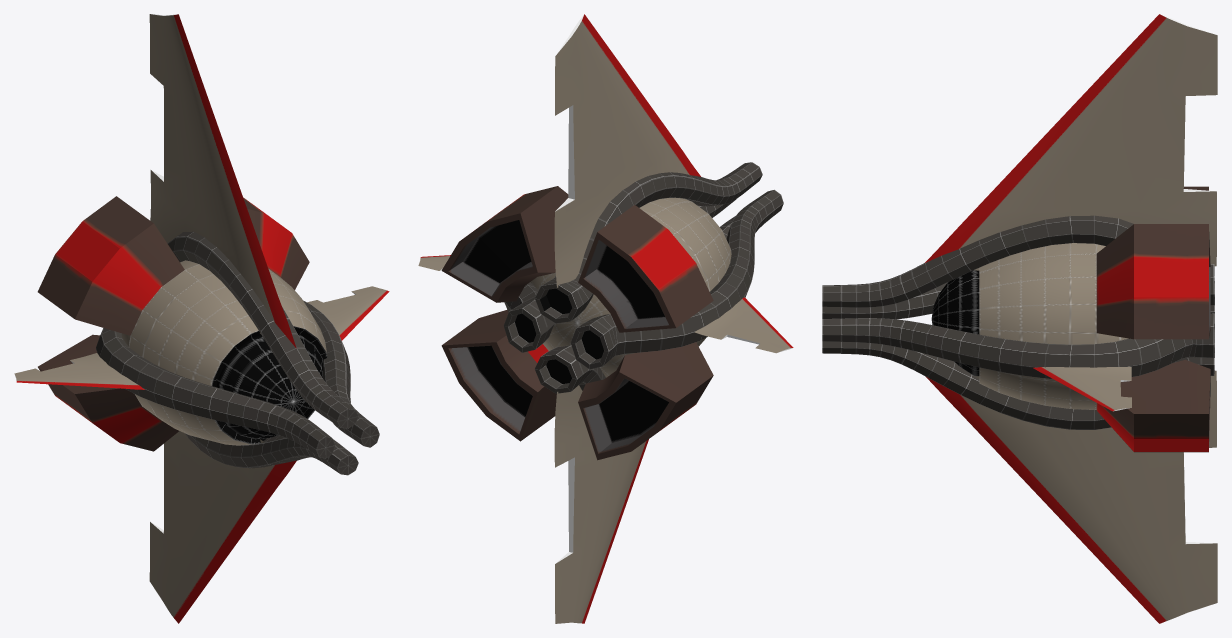
File: heavy_ship_red_swap.fbx
3 views of the same model, side by side, from view 1: azimuth 30°, elevation 25°; view 2: azimuth 150°, elevation 25°; view 3: azimuth 270°, elevation 25° (orthographic).
Visible parts, largest first — view 1: heavy_ship; view 2: heavy_ship; view 3: heavy_ship.
Boxes of the visible parts, left/top/right/bottom form: heavy_ship: left=14, top=14, right=389, bottom=623; heavy_ship: left=418, top=14, right=793, bottom=623; heavy_ship: left=822, top=14, right=1217, bottom=623.
Size of the model in its own units: 11.88 by 18.56 by 10.91.
2 materials, 1 textured.
